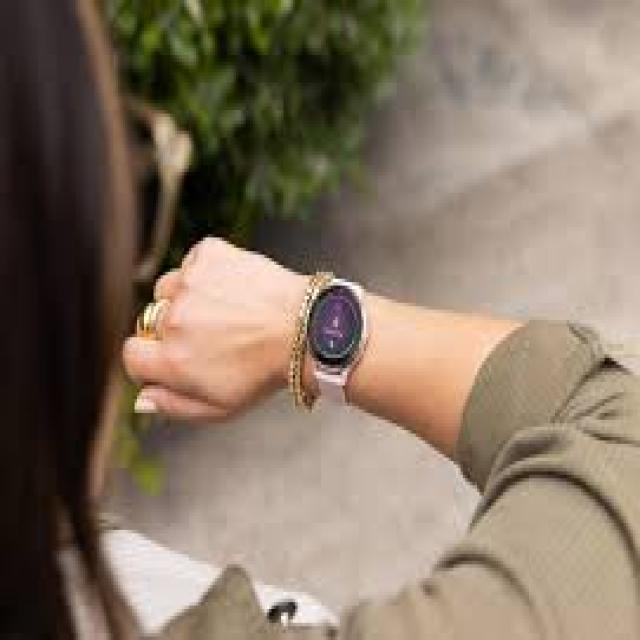objects: (302, 273, 368, 416)
